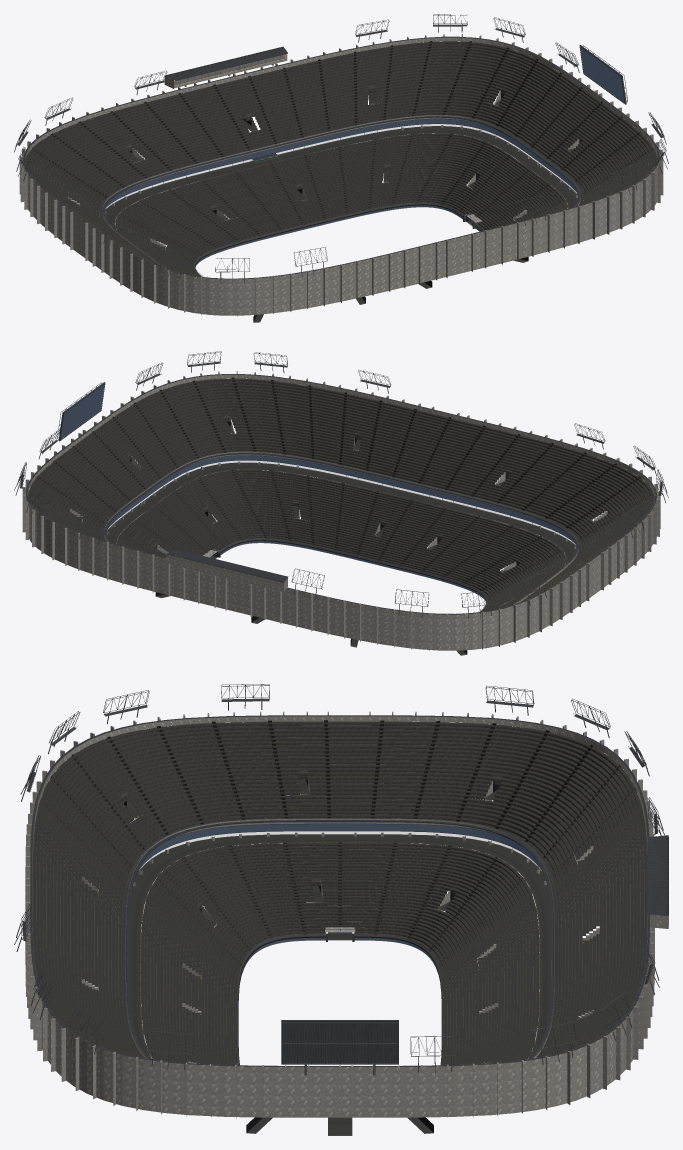
The model's file is stands.glb.
3 views of the same model, one above another, from view 1: azimuth 30°, elevation 25°; view 2: azimuth 150°, elevation 25°; view 3: azimuth 270°, elevation 25° (orthographic). The views are drawn at different scales.
Visible parts, largest first — view 1: stands; view 2: stands; view 3: stands.
Boxes of the visible parts, x1,y1,x2,y2 form: stands: [14, 14, 668, 322]; stands: [14, 351, 668, 655]; stands: [14, 684, 668, 1135].
Size of the model in its own units: 250 by 58.76 by 188.
11 materials, 4 textured.
